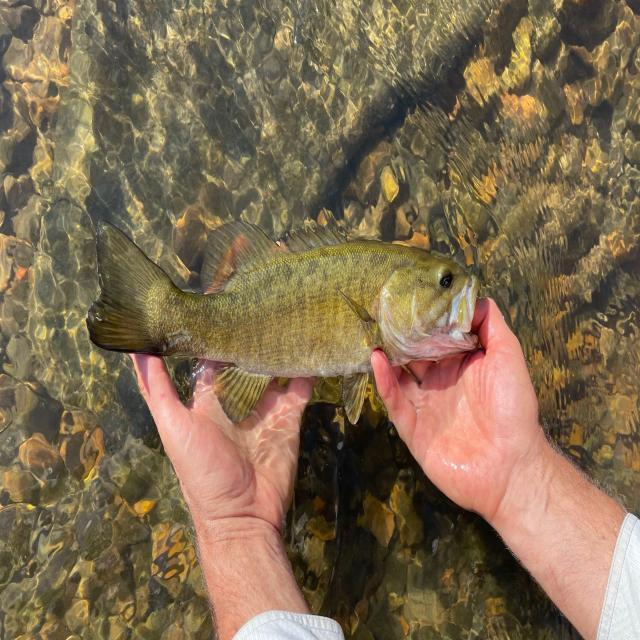Bass - Smallmouth: (86, 213, 480, 424)
